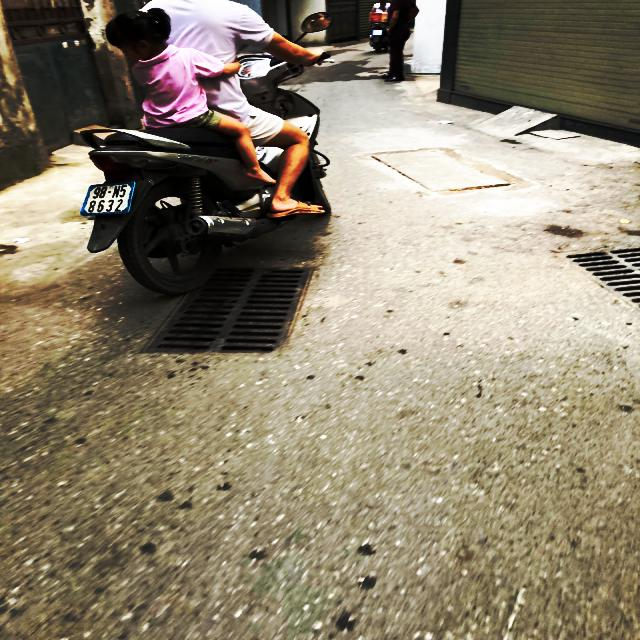license_plate: (81, 183, 136, 214)
